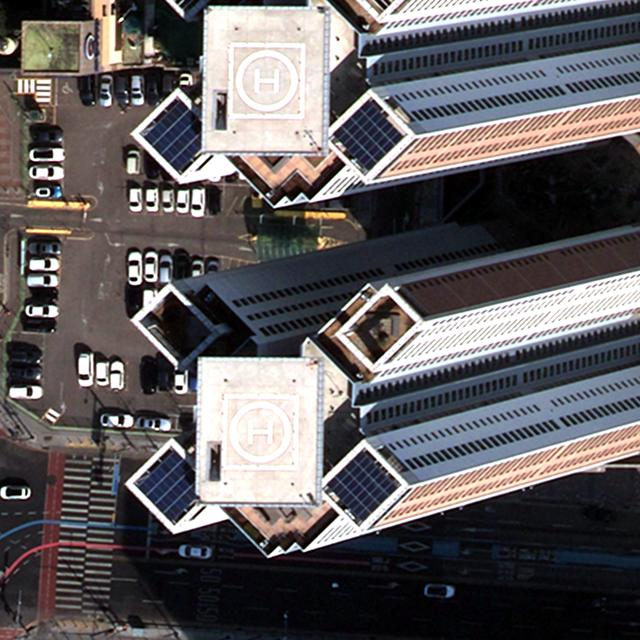panel: (324, 450, 399, 529), (332, 99, 408, 174), (133, 449, 200, 528), (141, 102, 211, 176)
